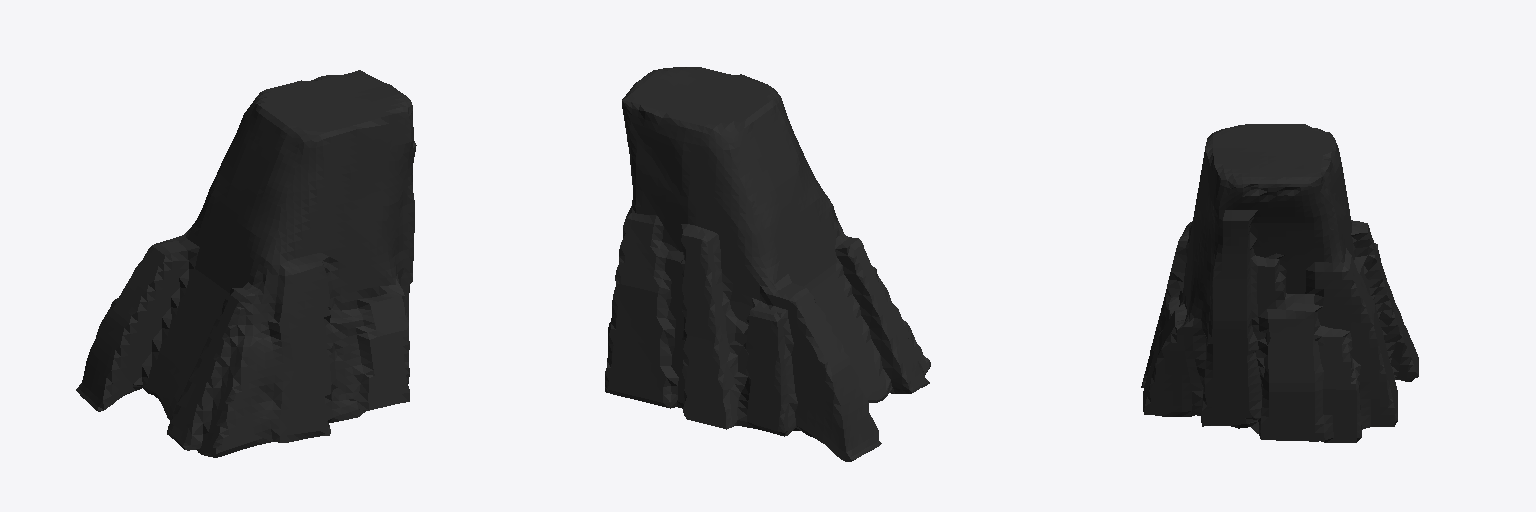
Rendered from centralspire.obj.
The picture shows the model from 3 angles: view 1: azimuth 30°, elevation 25°; view 2: azimuth 150°, elevation 25°; view 3: azimuth 270°, elevation 25°; orthographic projection.
Parts seen in each view (by area): view 1: Cube_Cube.001; view 2: Cube_Cube.001; view 3: Cube_Cube.001.
Boxes of the visible parts, x1=… form: Cube_Cube.001: x1=76, y1=70, x2=416, y2=457; Cube_Cube.001: x1=605, y1=67, x2=930, y2=461; Cube_Cube.001: x1=1141, y1=124, x2=1418, y2=442.
Size of the model in its own units: 0.4213 by 0.4175 by 0.3721.